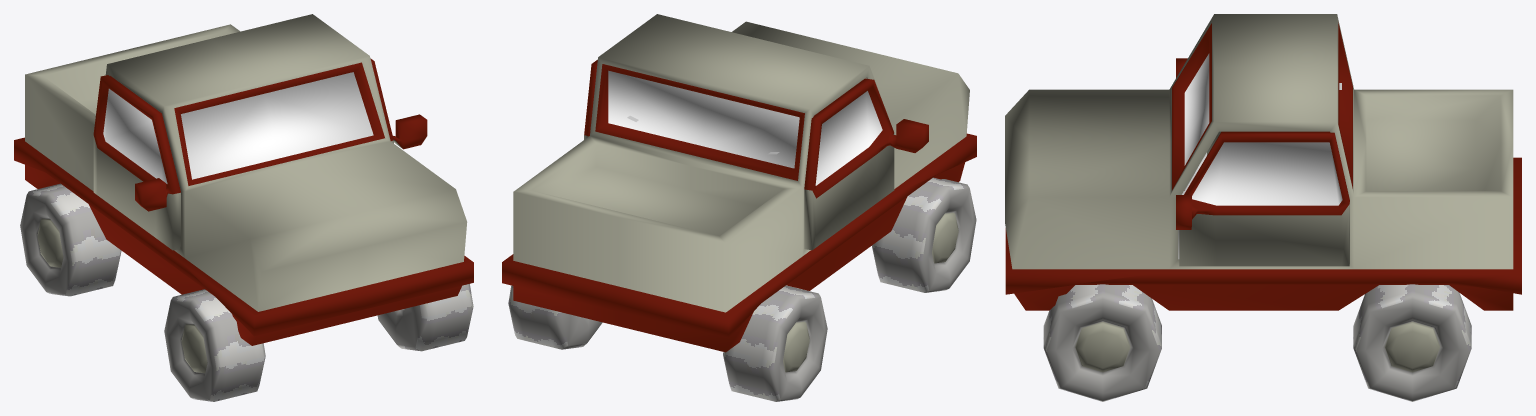
File: Ute.fbx
3 views of the same model, side by side, from view 1: azimuth 30°, elevation 25°; view 2: azimuth 150°, elevation 25°; view 3: azimuth 270°, elevation 25° (orthographic). The views are drawn at different scales.
Parts seen in each view (by area): view 1: Body, Door, Wheels, Wheels (1), Wheels (3), Door (1); view 2: Body, Door, Wheels, Wheels (1), Wheels (2), Door (1); view 3: Body, Door (1), Wheels (2), Wheels (3).
Part boxes in pixels (box(x1,y1,x2,y2)): Body: box(14, 14, 473, 345); Door: box(93, 75, 180, 250); Wheels: box(20, 183, 121, 296); Wheels (1): box(164, 289, 265, 401); Wheels (3): box(377, 284, 473, 351); Door (1): box(370, 58, 427, 149); Body: box(502, 14, 976, 352); Door: box(804, 78, 928, 250); Wheels: box(723, 285, 827, 401); Wheels (1): box(872, 177, 976, 292); Wheels (2): box(508, 285, 602, 349); Door (1): box(584, 60, 597, 139); Body: box(1005, 14, 1521, 310); Door (1): box(1176, 131, 1349, 266); Wheels (2): box(1353, 284, 1471, 401); Wheels (3): box(1043, 284, 1161, 401).
Bounding box in the file's own units: 3.78 × 3.17 × 5.53.
